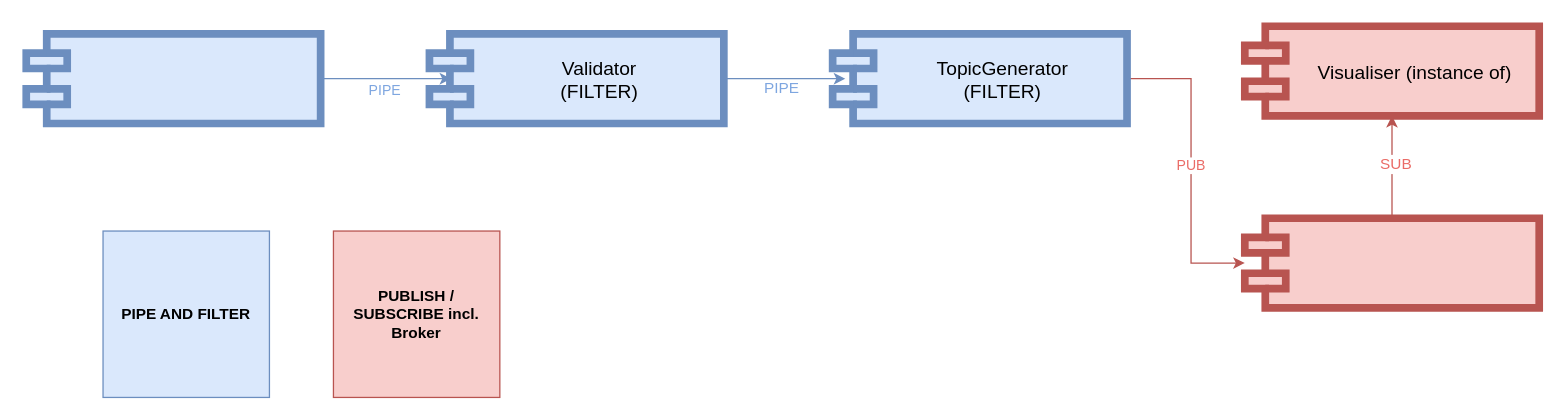
The diagram is 1564 pixels wide and 420 high, and some of its shapes have lost their labels. The shapes that lost their labels are listed below. From the top down, each one's centre as x and y in pixels, then its label:
At (x=173, y=78): "TravelRequestGenerator (PUMP)".
At (x=1391, y=262): "Broker".
